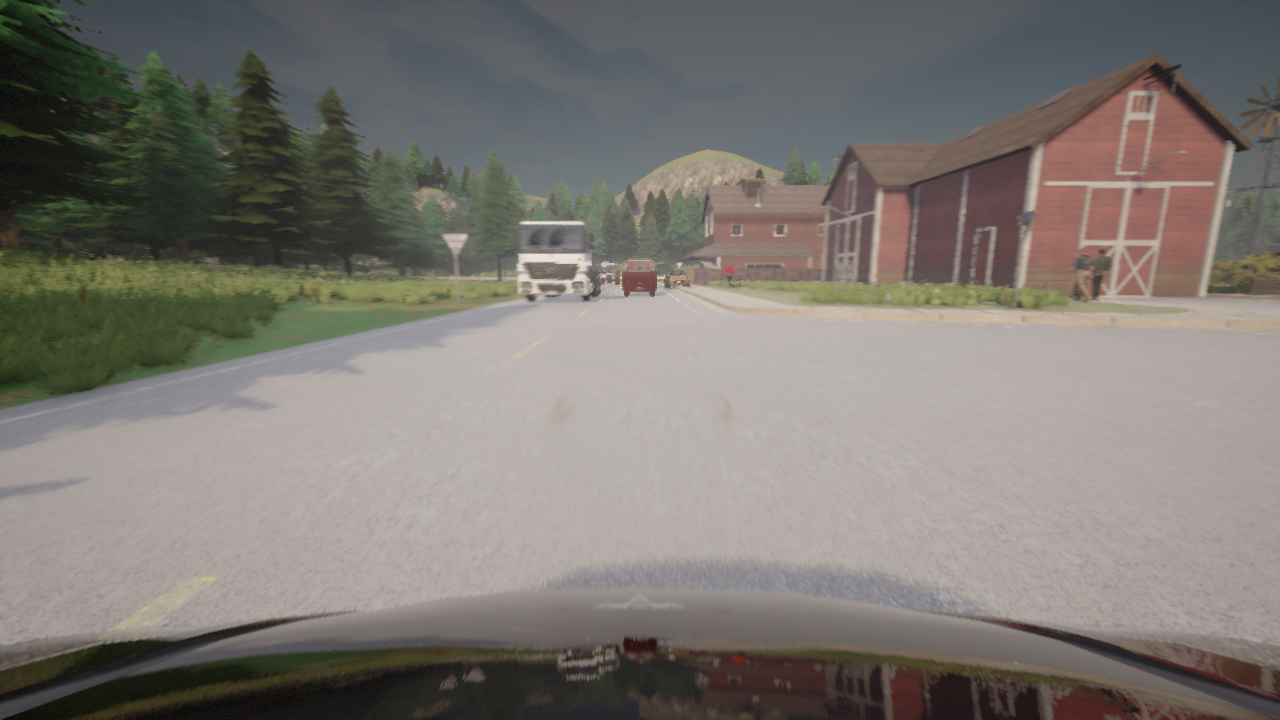cyclist: (0, 588, 1279, 719), (512, 221, 600, 301), (623, 259, 656, 295), (664, 269, 689, 288), (599, 262, 618, 283)
pedestrian: (1063, 247, 1094, 301), (1091, 248, 1111, 300), (723, 262, 734, 288), (1075, 279, 1087, 300)
